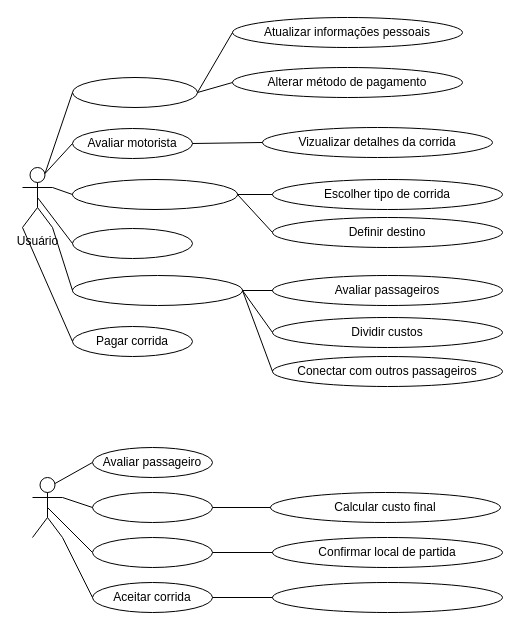
Some shapes in this 520 by 630 pixel diagram are drawn without their labels. The shapes that lost their labels are listed below. From the top down, each one's centre as x and y in pixels, then its label:
the point at 135,92: Gerenciar conta
the point at 155,194: Ver histórico de corridas
the point at 132,243: Solicitar corrida
the point at 157,290: Carona compartihada
the point at 47,507: Motorista
the point at 152,507: Finalizar corrida
the point at 152,552: Iniciar corrida
the point at 387,597: Ver detahes da solicitação
